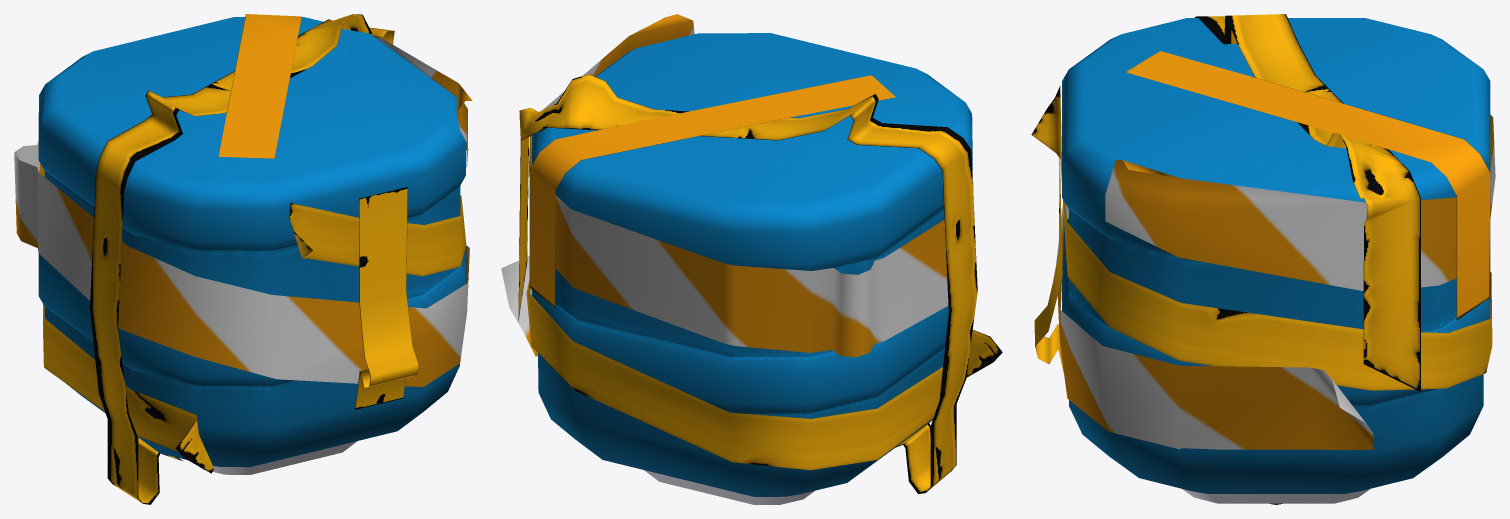
The model's file is obj_office_waterdispensertank_taped.fbx.
3 views of the same model, side by side, from view 1: azimuth 30°, elevation 25°; view 2: azimuth 150°, elevation 25°; view 3: azimuth 270°, elevation 25° (orthographic). The views are drawn at different scales.
Parts seen in each view (by area): view 1: pPlane22; view 2: pPlane22; view 3: pPlane22.
Part boxes in pixels (x1,y1,x2,y2): pPlane22: (14, 14, 472, 504); pPlane22: (501, 14, 1002, 504); pPlane22: (1031, 14, 1495, 504).
Size of the model in its own units: 3.57 by 3.28 by 3.36.
Materials: 3 (3 with a texture image).
